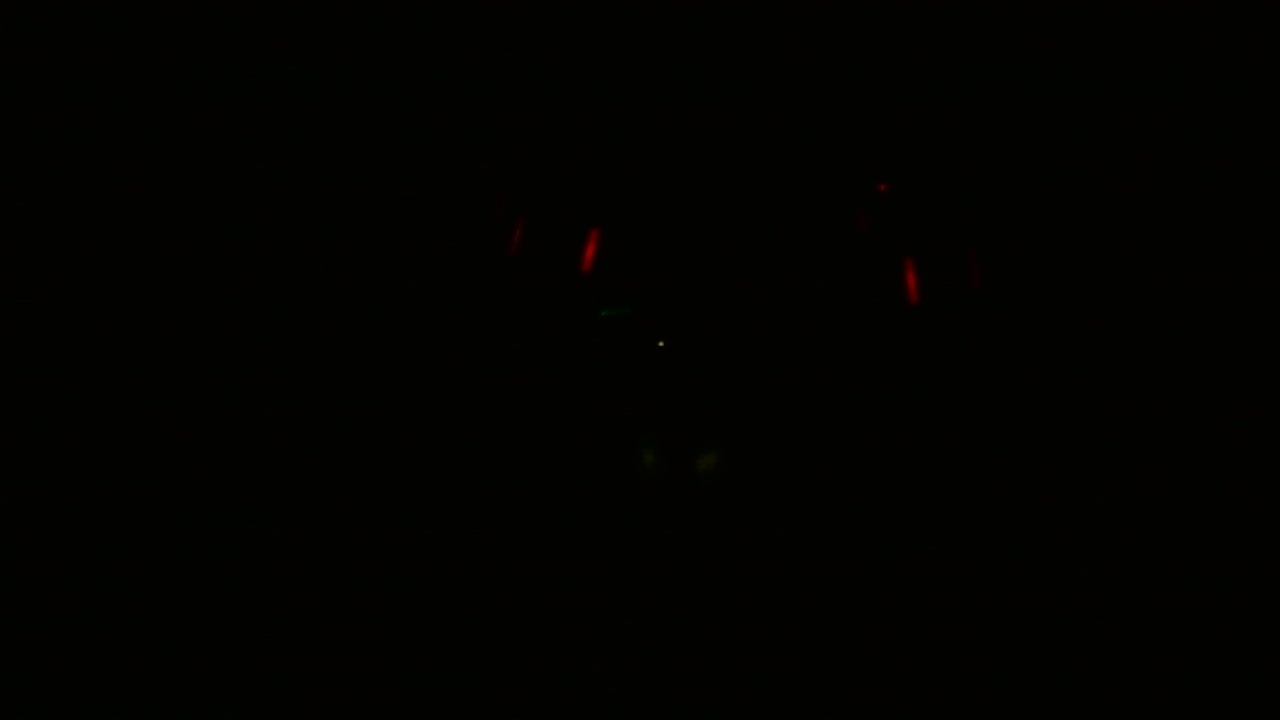pair1: (898, 253, 932, 308)
